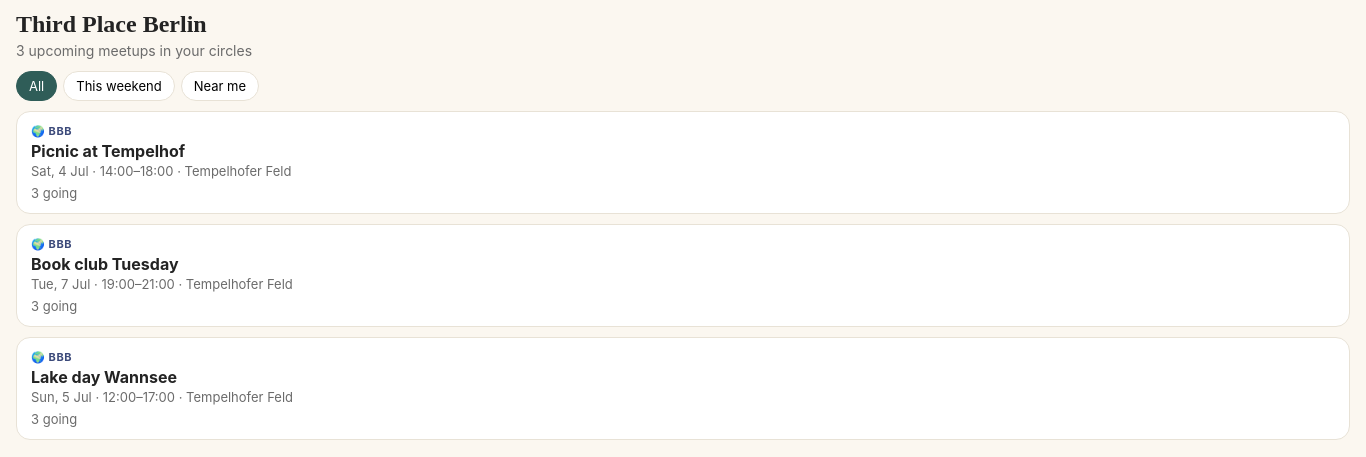
Test: filters This weekend and Near me
Expected: the text "Picnic at Tempelhof" is shown, [31,141,185,161]
Expected: the text "Book club Tuesday" is shown, [31,254,179,274]
Click the button "This weekend": (119, 86) [63,71,175,101]
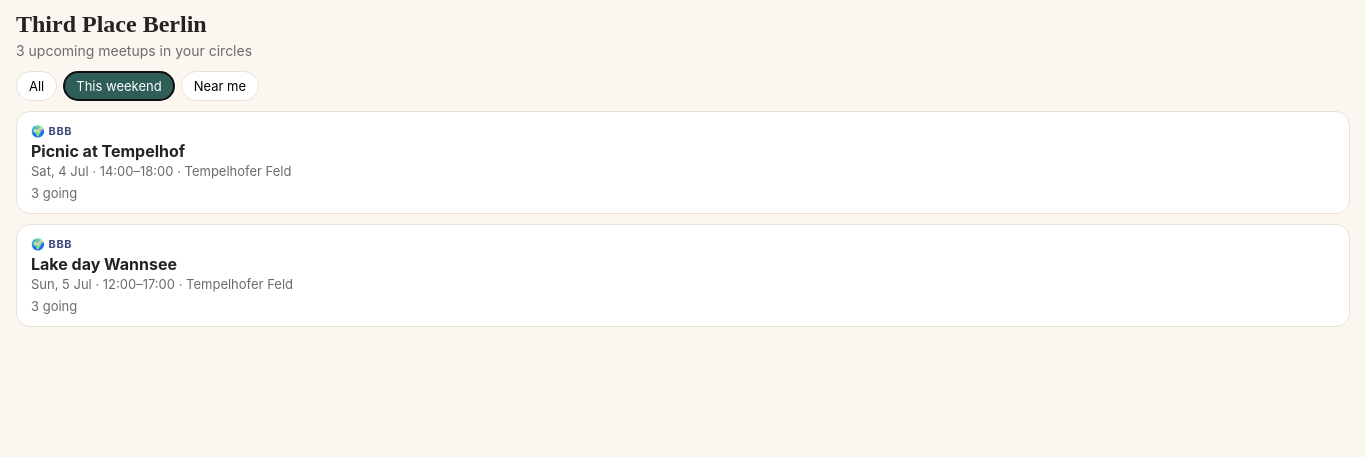
Expected: the text "Picnic at Tempelhof" is shown, [31,141,185,161]
Expected: the link "Book club Tuesday" is gone
Click the button "Near me": (220, 86) [181,71,259,101]
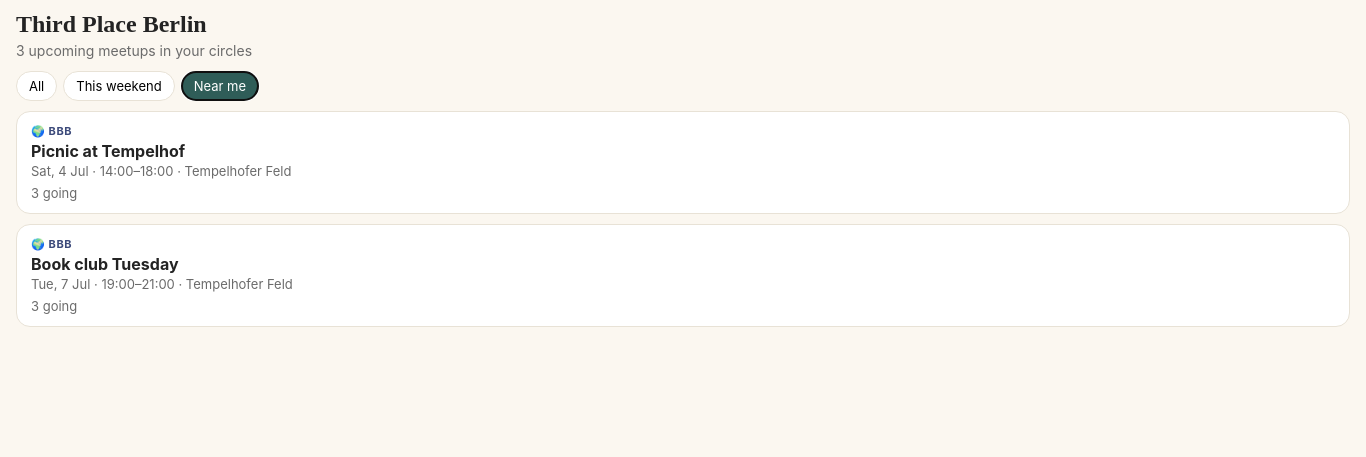
Expected: the text "Picnic at Tempelhof" is shown, [31,141,185,161]
Expected: the link "Lake day Wannsee" is gone
